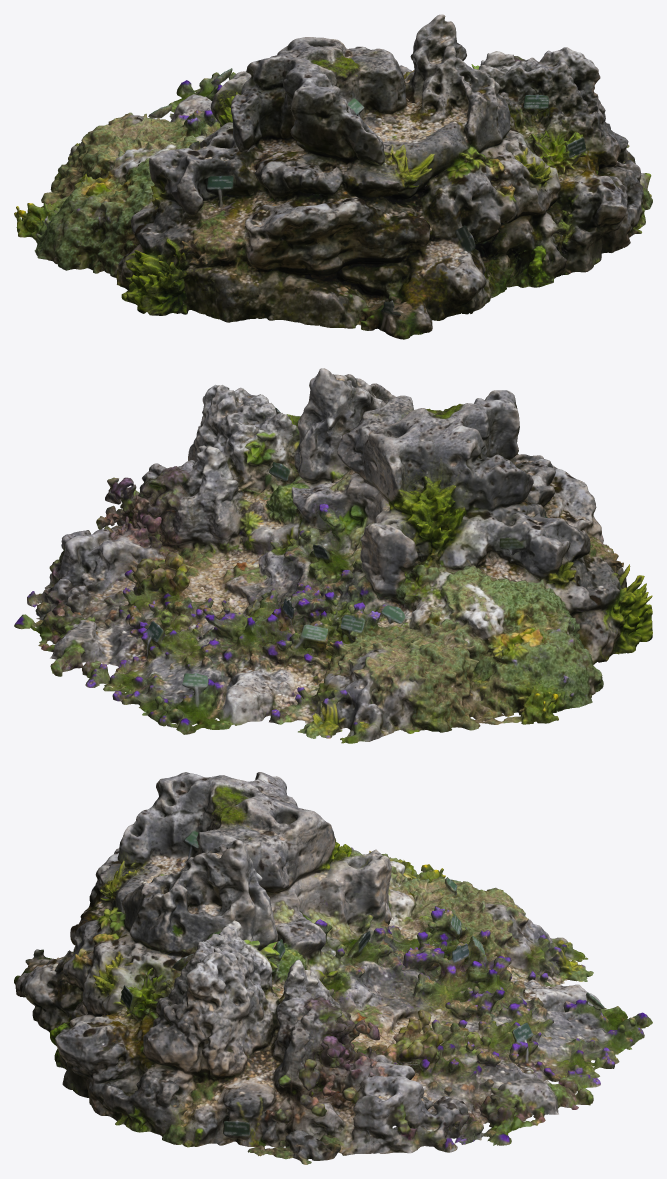
The model's file is plant_island.glb.
3 renders of one model, top to bottom at view 1: azimuth 30°, elevation 25°; view 2: azimuth 150°, elevation 25°; view 3: azimuth 270°, elevation 25°, orthographic. The views are drawn at different scales.
Parts seen in each view (by area): view 1: Model; view 2: Model; view 3: Model.
Boxes of the visible parts, x1,y1,x2,y2 form: Model: (14,14,652,339); Model: (14,368,652,743); Model: (14,772,652,1164).
Bounding box in the file's own units: 3.57 × 1.28 × 3.45.
1 material, 1 textured.
